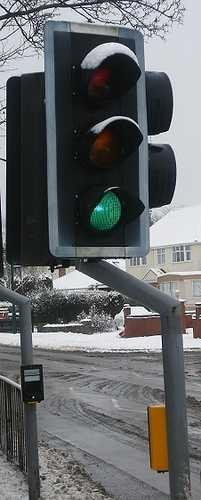green: (57, 33, 149, 249), (66, 185, 144, 244)
